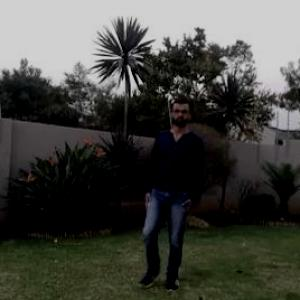follow: (145, 106, 196, 276)
